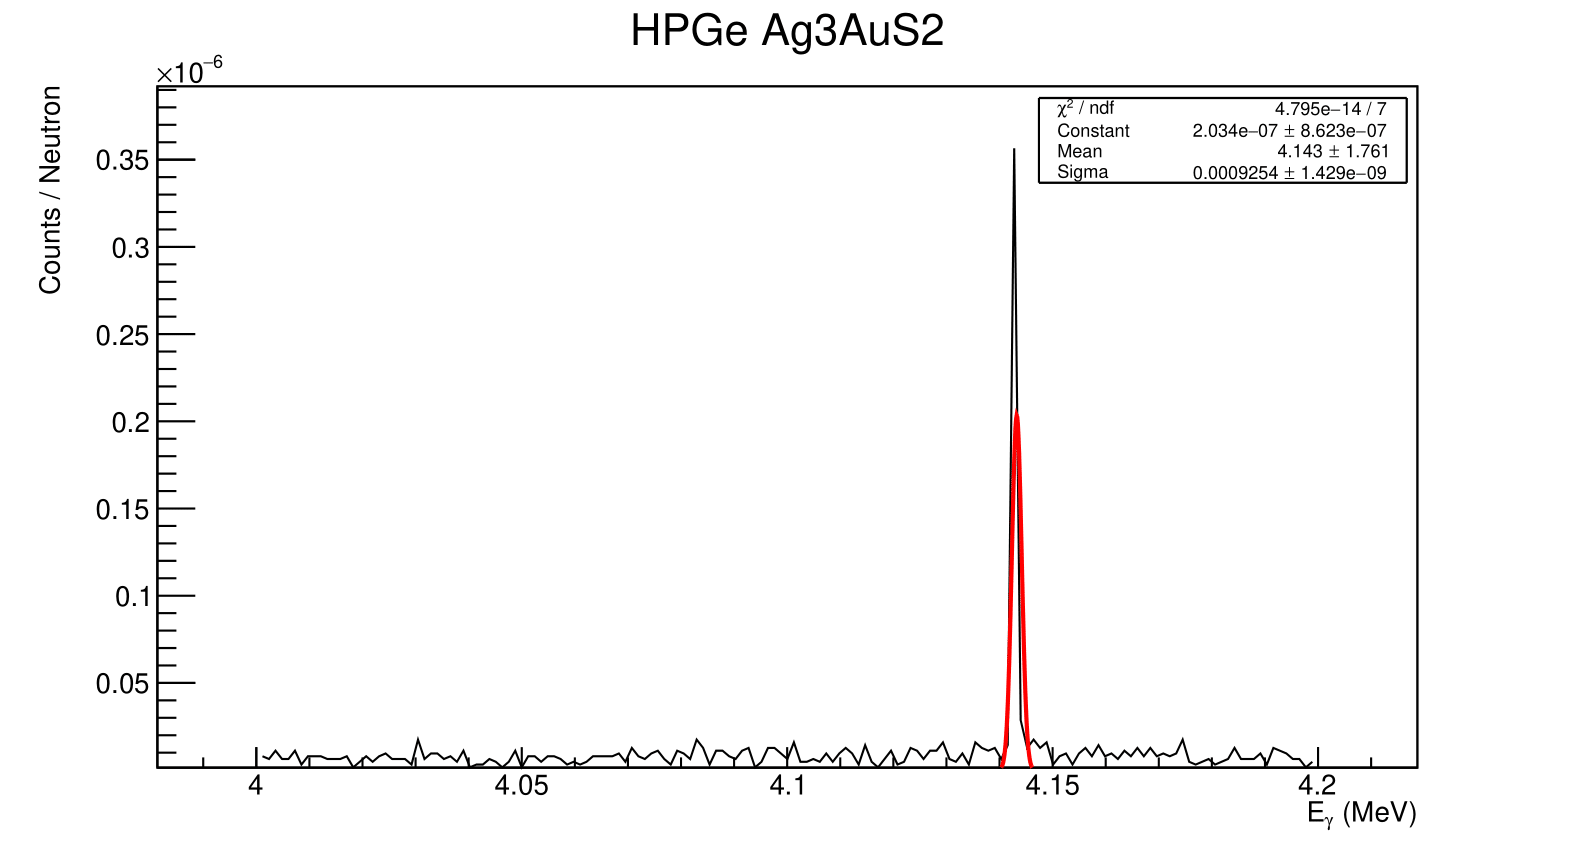gauss: (980, 132, 1044, 773)
